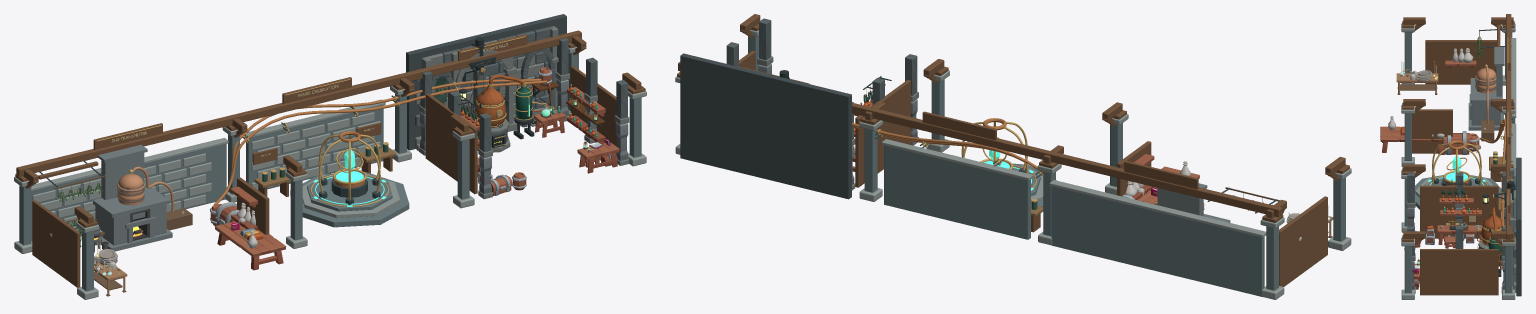
The model's file is working_bays.glb.
3 renders of one model, left to right at view 1: azimuth 30°, elevation 25°; view 2: azimuth 150°, elevation 25°; view 3: azimuth 270°, elevation 25°, orthographic. The views are drawn at different scales.
Visible parts, largest first — view 1: Crafted assembly 108, Crafted assembly 110, Crafted assembly 109, Crafted assembly 016, Crafted assembly 095, Crafted assembly 096, Crafted assembly 101, Crafted assembly 093, Crafted assembly 043, Crafted assembly 114, Crafted assembly 059, Crafted assembly 054 (+28 smaller); view 2: Crafted assembly 059, Crafted assembly 096, Crafted assembly 109, Crafted assembly 108, Crafted assembly 093, Crafted assembly 101, Crafted assembly 095, Crafted assembly 097, Crafted assembly 092, Crafted assembly 043, Crafted assembly 100, Crafted assembly 110 (+6 smaller); view 3: Crafted assembly 105, Crafted assembly 101, Crafted assembly 093, Crafted assembly 097, Crafted assembly 016, Crafted assembly 108, Crafted assembly 043, Crafted assembly 059, Crafted assembly 111, Crafted assembly 104, Crafted assembly 054, Crafted assembly 095 (+36 smaller).
Part boxes in pixels (box(x1,y1,x2,y2)): Crafted assembly 108: box(16, 30, 581, 196); Crafted assembly 110: box(245, 99, 399, 218); Crafted assembly 109: box(246, 105, 409, 227); Crafted assembly 016: box(93, 144, 172, 251); Crafted assembly 095: box(31, 127, 307, 248); Crafted assembly 096: box(31, 134, 302, 241); Crafted assembly 101: box(392, 34, 527, 194); Crafted assembly 093: box(15, 161, 98, 287); Crafted assembly 043: box(420, 38, 627, 152); Crafted assembly 114: box(214, 78, 547, 204); Crafted assembly 059: box(406, 14, 566, 150); Crafted assembly 054: box(416, 26, 629, 199); Crafted assembly 059: box(680, 53, 851, 199); Crafted assembly 096: box(1043, 123, 1264, 296); Crafted assembly 109: box(884, 145, 1056, 239); Crafted assembly 108: box(678, 62, 1282, 232); Crafted assembly 093: box(1262, 157, 1349, 286); Crafted assembly 101: box(736, 59, 948, 187); Crafted assembly 095: box(1037, 114, 1266, 245); Crafted assembly 097: box(1039, 102, 1198, 196); Crafted assembly 092: box(1266, 177, 1345, 290); Crafted assembly 043: box(726, 18, 917, 139); Crafted assembly 100: box(864, 79, 944, 192); Crafted assembly 110: box(881, 139, 1043, 203); Crafted assembly 105: box(1402, 231, 1514, 295); Crafted assembly 101: box(1402, 164, 1513, 238); Crafted assembly 093: box(1402, 17, 1514, 84); Crafted assembly 097: box(1402, 36, 1514, 153); Crafted assembly 016: box(1468, 47, 1504, 130); Crafted assembly 108: box(1490, 14, 1511, 239); Crafted assembly 043: box(1407, 172, 1505, 256); Crafted assembly 059: box(1516, 157, 1521, 296); Crafted assembly 111: box(1426, 111, 1508, 185); Crafted assembly 104: box(1404, 246, 1512, 293); Crafted assembly 054: box(1406, 168, 1516, 293); Crafted assembly 095: box(1401, 38, 1516, 167).
Size of what is drawn, in the model's own units: 33.7 by 5.66 by 9.13.
81 materials, 36 textured.
